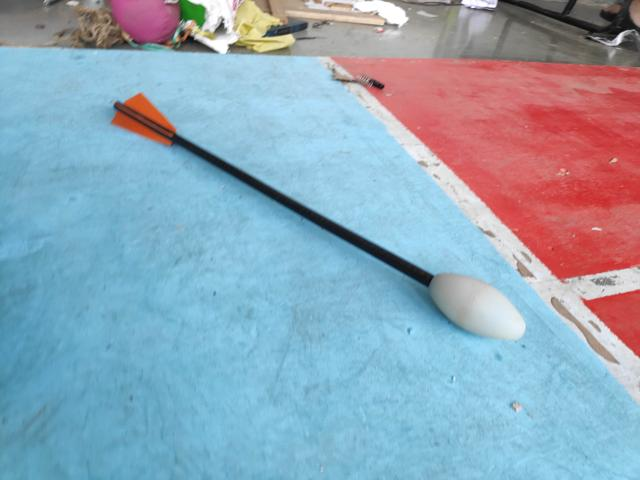Head: (425, 272, 527, 343)
Tail: (107, 92, 189, 146)
